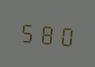eight: (38, 19, 56, 47)
five: (18, 17, 36, 46)
zero: (57, 20, 75, 49)
